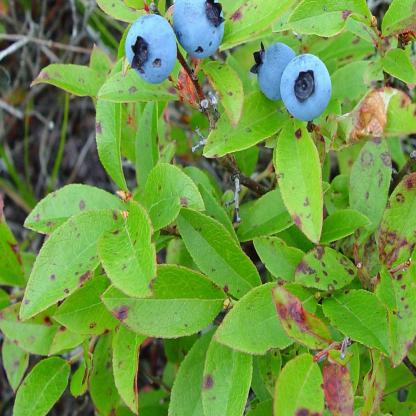Blueberry leaf: (20, 175, 158, 333), (101, 260, 230, 342), (171, 200, 265, 295), (215, 278, 322, 359), (311, 265, 399, 362), (201, 85, 296, 171), (337, 111, 396, 249), (98, 323, 163, 414), (93, 68, 136, 199), (14, 349, 95, 415), (195, 54, 257, 131), (199, 324, 250, 415), (277, 1, 371, 40), (28, 63, 103, 104), (134, 97, 166, 188)
